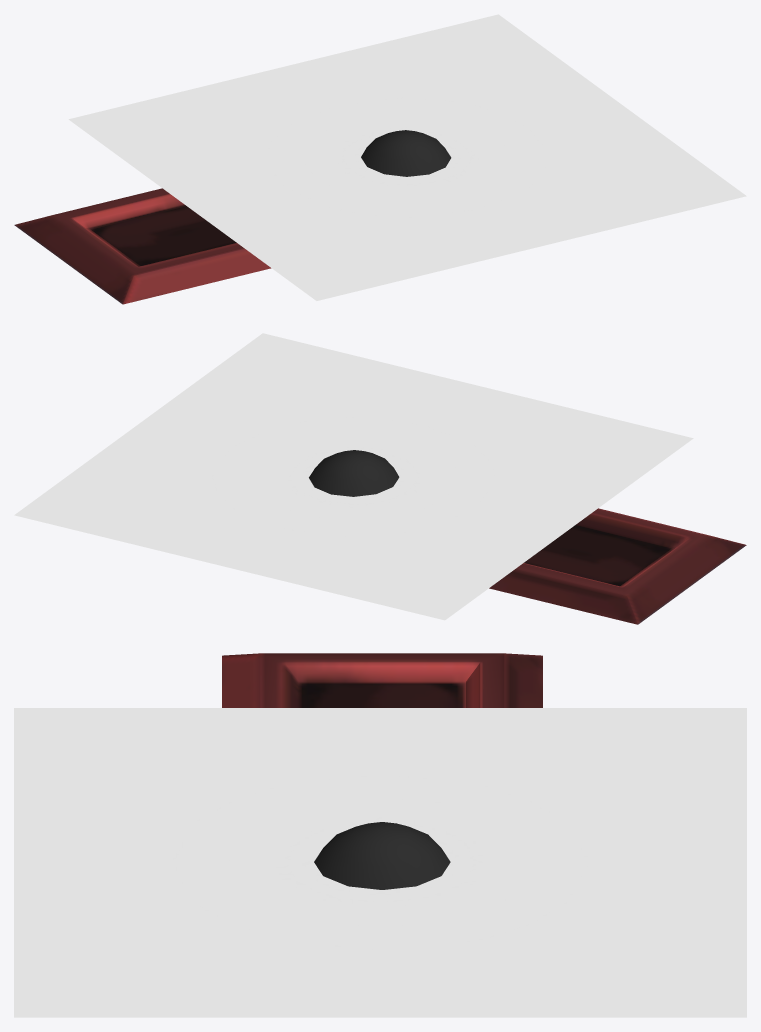
Rendered from IndicatorWidget.fbx.
3 renders of one model, top to bottom at view 1: azimuth 30°, elevation 25°; view 2: azimuth 150°, elevation 25°; view 3: azimuth 270°, elevation 25°, orthographic. The views are drawn at different scales.
Parts seen in each view (by area): view 1: LightGlow, backing, led_off; view 2: LightGlow, backing, led_off; view 3: LightGlow, backing, led_off.
Boxes of the visible parts, bbox=[...] form: LightGlow: bbox=[68, 14, 746, 300]; backing: bbox=[14, 188, 271, 304]; led_off: bbox=[361, 130, 451, 176]; LightGlow: bbox=[14, 333, 693, 620]; backing: bbox=[489, 508, 746, 624]; led_off: bbox=[309, 450, 399, 496]; LightGlow: bbox=[14, 708, 746, 1017]; backing: bbox=[222, 653, 542, 707]; led_off: bbox=[314, 822, 450, 889].
Bounding box in the file's own units: 0.1574 × 0.0128 × 0.1223.
Materials: 3 (3 with a texture image).
